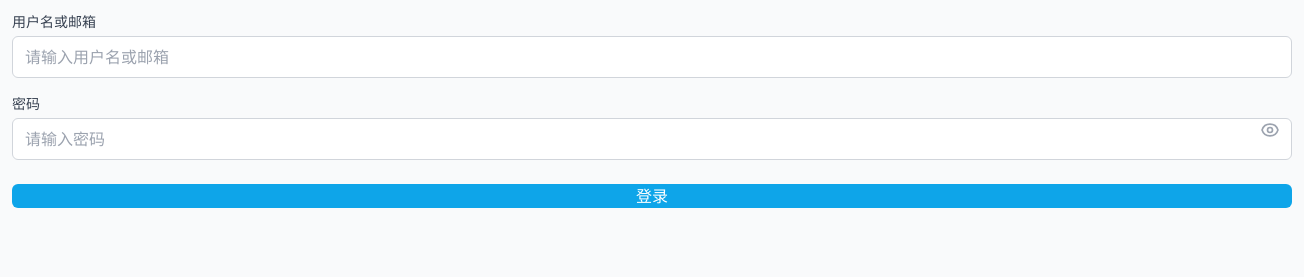
Test case: LoginForm - 表单验证 › 太短的用户名应该显示错误提示
Step 1. Type "ab" into the field labelled "用户名或邮箱" → coordinates (652, 57), box [12, 36, 1292, 78]
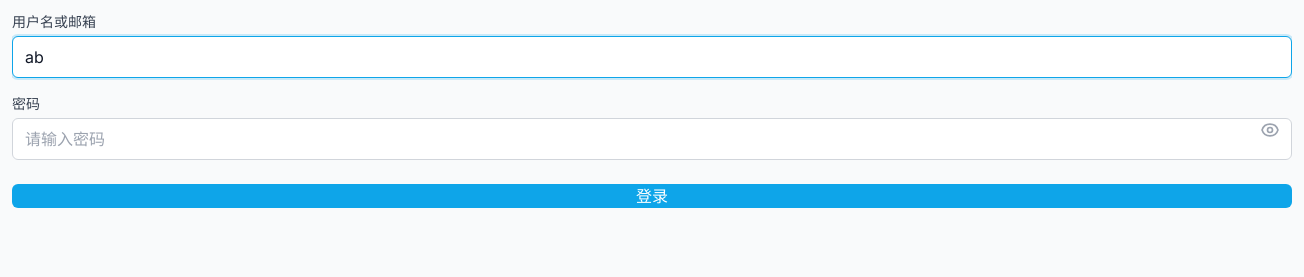
Step 2. Click the button "登录" → coordinates (652, 196), box [12, 184, 1292, 208]
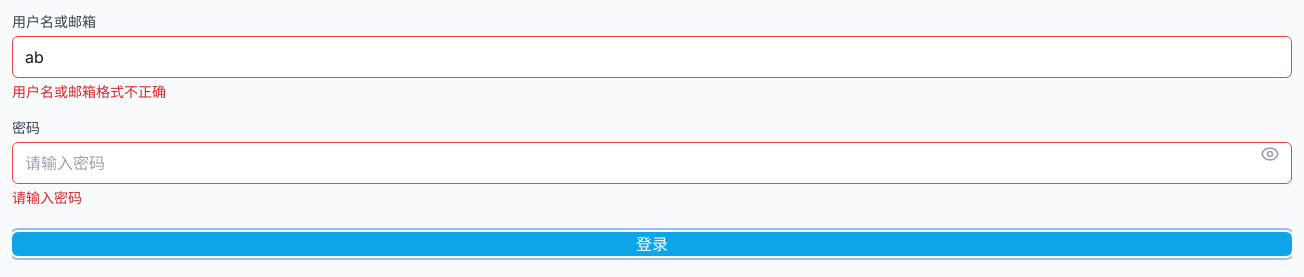
Result: the text "用户名或邮箱格式不正确" is shown at [12, 83, 166, 100]
